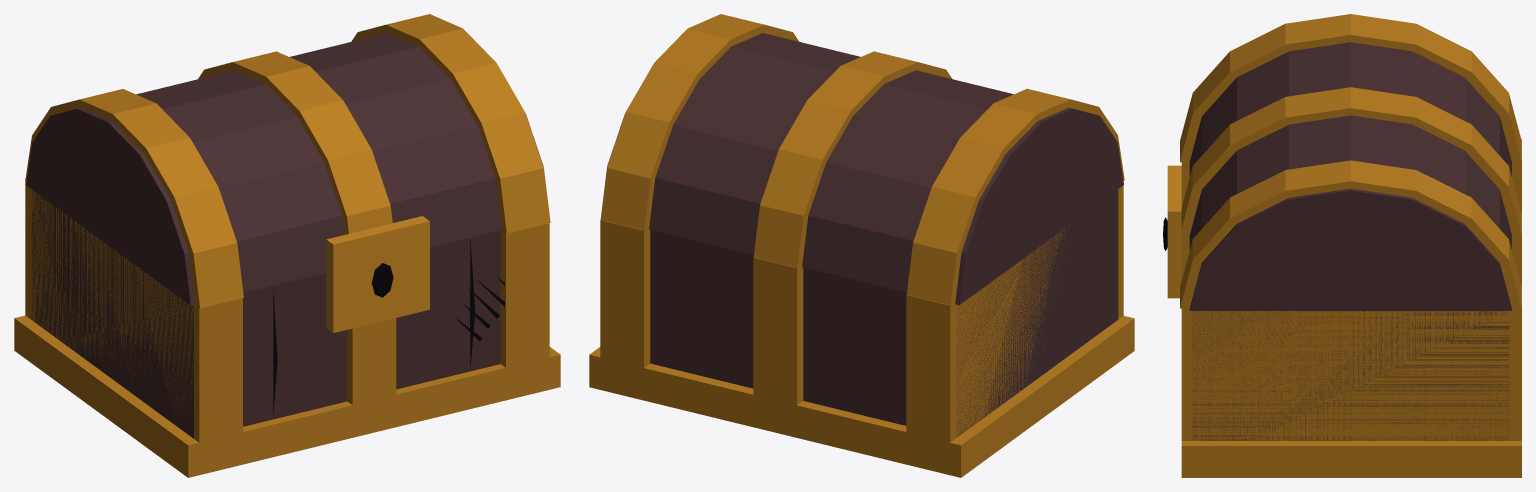
Rendered from chest_gold.glb.
3 renders of one model, left to right at view 1: azimuth 30°, elevation 25°; view 2: azimuth 150°, elevation 25°; view 3: azimuth 270°, elevation 25°, orthographic. The views are drawn at different scales.
Parts seen in each view (by area): view 1: chest_gold_lid, chest_gold.001; view 2: chest_gold_lid, chest_gold.001; view 3: chest_gold_lid, chest_gold.001.
Boxes of the visible parts, left/top/right/bottom form: chest_gold_lid: left=25, top=14, right=550, bottom=332; chest_gold.001: left=14, top=178, right=560, bottom=477; chest_gold_lid: left=600, top=14, right=1124, bottom=305; chest_gold.001: left=589, top=185, right=1134, bottom=477; chest_gold_lid: left=1167, top=14, right=1521, bottom=310; chest_gold.001: left=1163, top=139, right=1521, bottom=477.
Bounding box in the file's own units: 1.7 × 1.3 × 1.45.
